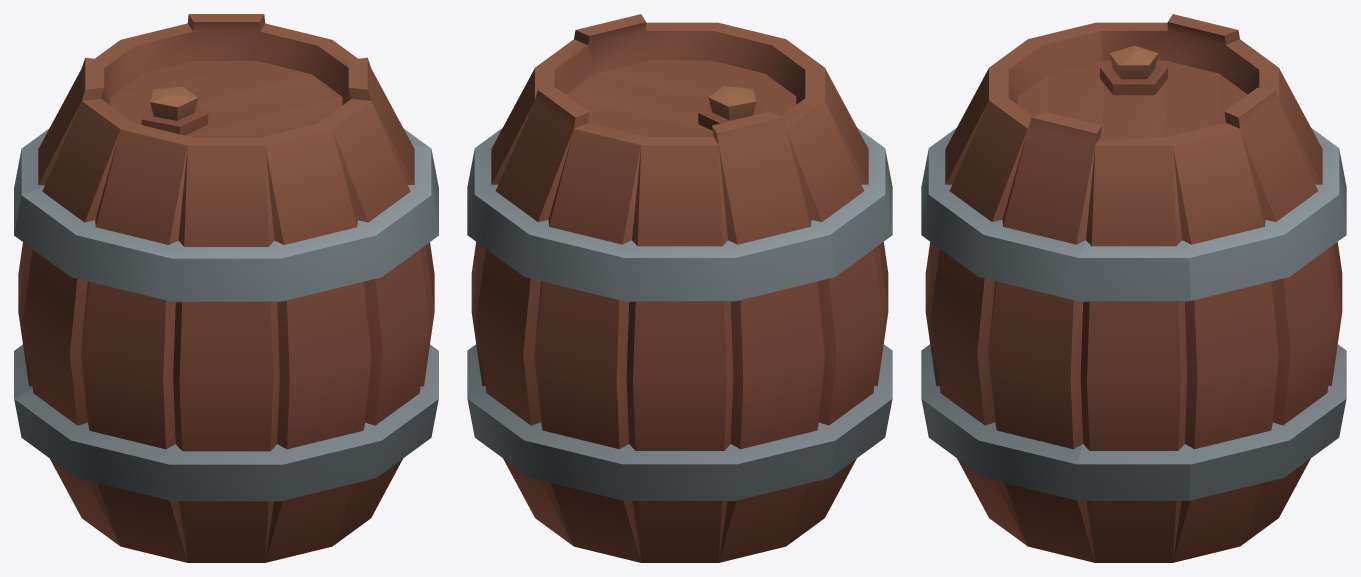
The model's file is fw_barrel_oak.glb.
The picture shows the model from 3 angles, left to right: view 1: azimuth 30°, elevation 25°; view 2: azimuth 150°, elevation 25°; view 3: azimuth 270°, elevation 25°; orthographic projection.
Visible parts, largest first — view 1: body; view 2: body; view 3: body.
Boxes of the visible parts, left/top/right/bottom form: body: left=14, top=14, right=438, bottom=562; body: left=467, top=14, right=892, bottom=562; body: left=921, top=14, right=1346, bottom=562.
Size of the model in its own units: 0.99 by 1.1 by 0.99.
